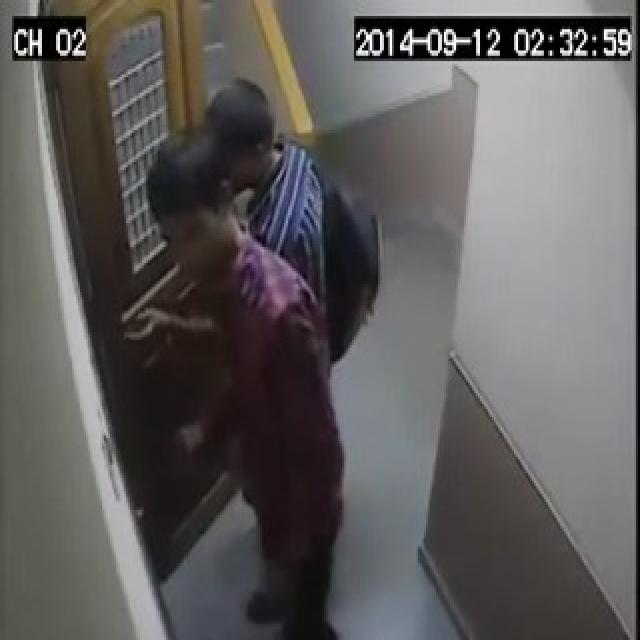burglary: (49, 146, 338, 585)
